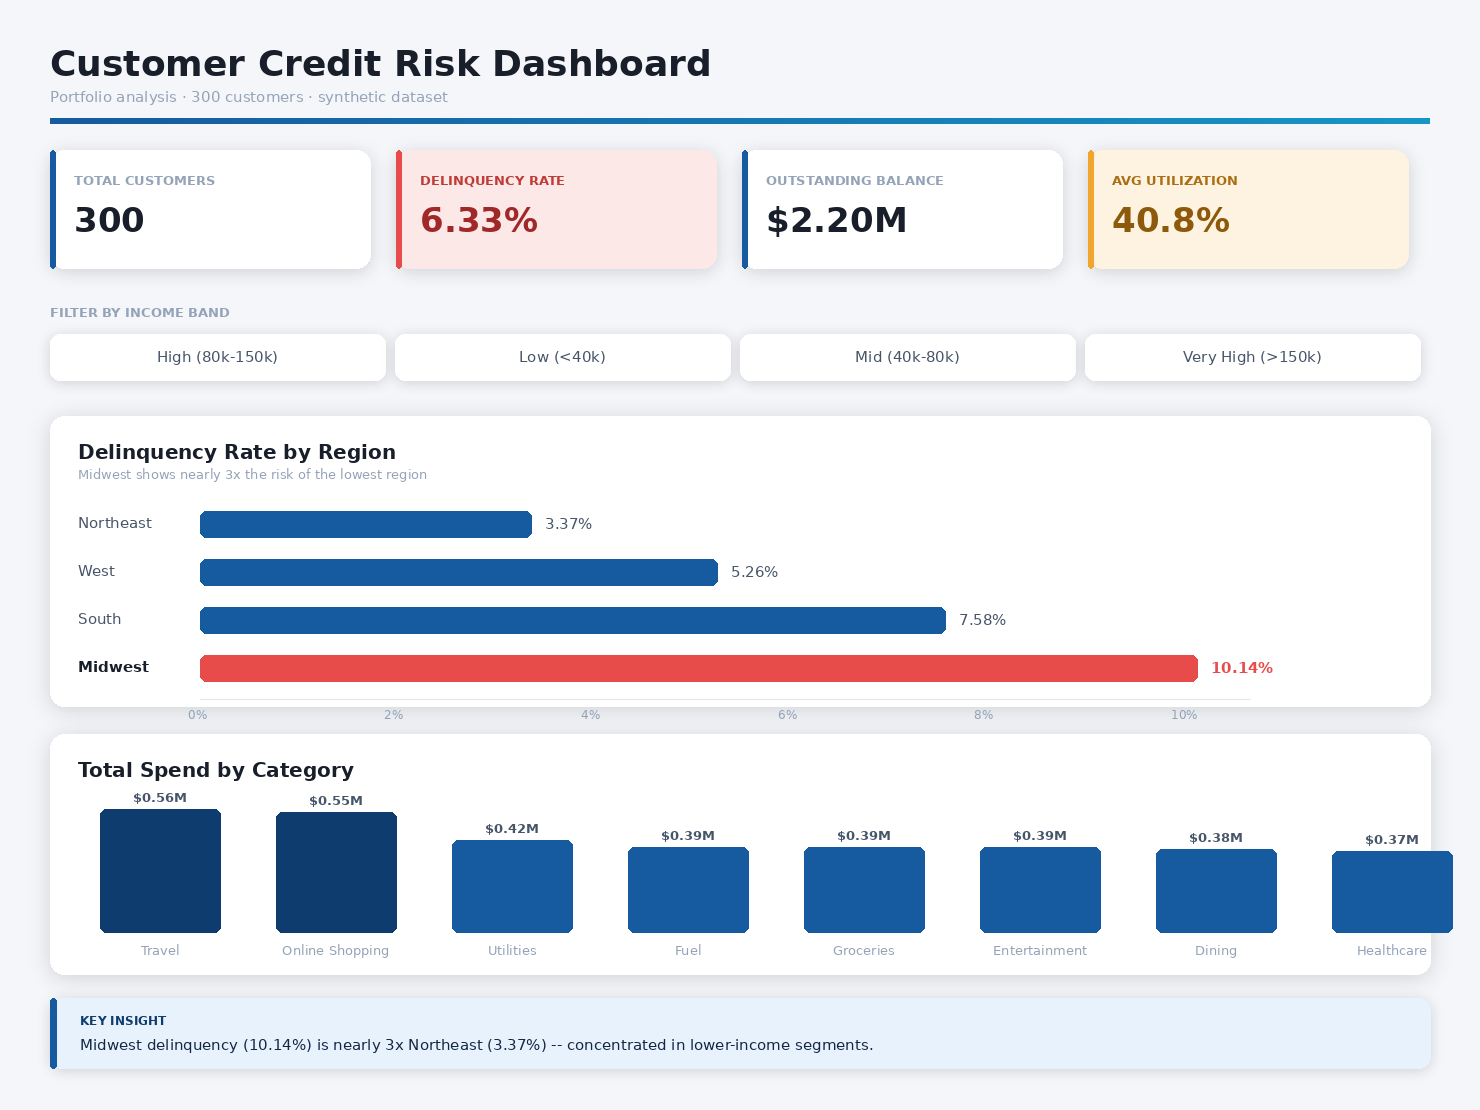

Layout of this report page (visuals, bound fields, positions):
{"tool":"powerbi","page":{"name":"Page 1","canvas":[1280,720],"ordinal":0},"visuals":[{"type":"card","title":"Total Customers","fields":{"Values":["Count(credit_card_transactions.CustomerID)"]},"box":[26.7,66.8,229.3,113.5],"z":0},{"type":"card","title":"Delinquency Rate","fields":{"Values":["Customers.Delinquency Rate"]},"box":[325,66.8,248.2,113.5],"z":1000},{"type":"card","title":"Total Outstanding Balance","fields":{"Values":["Customers.Total Outstanding Balance"]},"box":[640.1,66.8,248.2,113.5],"z":2000},{"type":"card","title":"Avg Utilization","fields":{"Values":["Avg(Customers.UtilizationRate)"]},"box":[969.6,66.8,256,113.5],"z":3000},{"type":"clusteredBarChart","title":"Delinquency Rate by Region","fields":{"Category":["Customers.Region"],"Y":["Customers.Delinquency Rate"]},"box":[26.7,295,1194.4,222.6],"z":4000},{"type":"slicer","title":"Filter By Income Band","fields":{"Values":["Customers.IncomeBand"]},"box":[26.7,190.4,1208.9,91.3],"z":5000},{"type":"clusteredColumnChart","title":"Total Spend by Category","fields":{"Category":["Customers.Category"],"Y":["Sum(Customers.TransactionAmount)"]},"box":[26.7,528.8,1208.9,181.4],"z":6000},{"type":"textbox","title":" Customer Credit Risk Dashboard ","box":[24.5,0,1208.9,33.4],"z":7000},{"type":"shape","title":"d","box":[24.5,41.2,1208.9,12.2],"z":8000}]}

Visuals, with their boxes on the page's 1280x720 design canvas (x1, y1, x2, y2). These are canvas units, not pixel positions in the 1480x1110 screenshot, which may show the page scaled, cropped or inside an application window:
"Total Customers" card: [x1=27, y1=67, x2=256, y2=180]
"Delinquency Rate" card: [x1=325, y1=67, x2=573, y2=180]
"Total Outstanding Balance" card: [x1=640, y1=67, x2=888, y2=180]
"Avg Utilization" card: [x1=970, y1=67, x2=1226, y2=180]
"Delinquency Rate by Region" clusteredBarChart: [x1=27, y1=295, x2=1221, y2=518]
"Filter By Income Band" slicer: [x1=27, y1=190, x2=1236, y2=282]
"Total Spend by Category" clusteredColumnChart: [x1=27, y1=529, x2=1236, y2=710]
" Customer Credit Risk Dashboard " textbox: [x1=24, y1=0, x2=1233, y2=33]
"d" shape: [x1=24, y1=41, x2=1233, y2=53]
